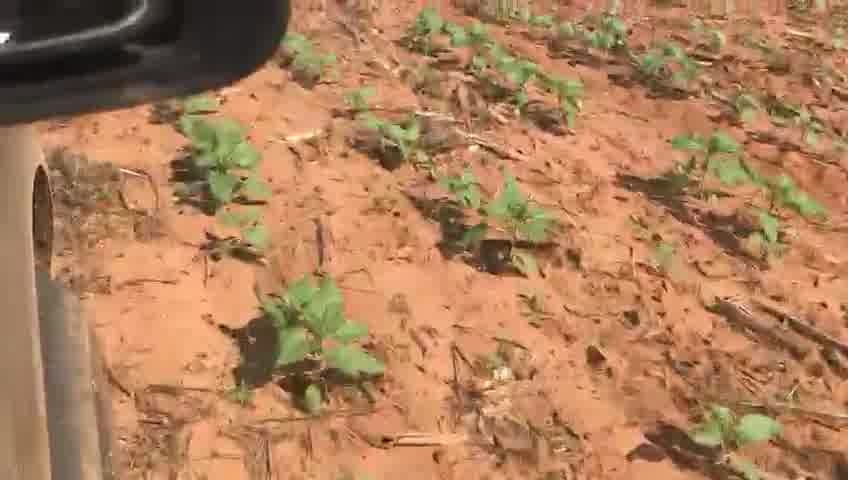sunflower: (258, 274, 381, 417), (477, 173, 563, 273), (178, 124, 282, 206), (716, 156, 823, 230), (679, 405, 779, 473), (671, 130, 740, 206), (634, 36, 706, 99), (366, 103, 433, 164), (204, 208, 275, 258), (438, 173, 496, 234), (578, 8, 627, 62), (545, 81, 595, 133), (473, 39, 521, 89), (278, 36, 335, 78), (506, 61, 551, 114), (439, 19, 487, 62), (733, 87, 769, 131), (408, 6, 442, 46), (341, 82, 384, 113), (548, 14, 579, 47)
